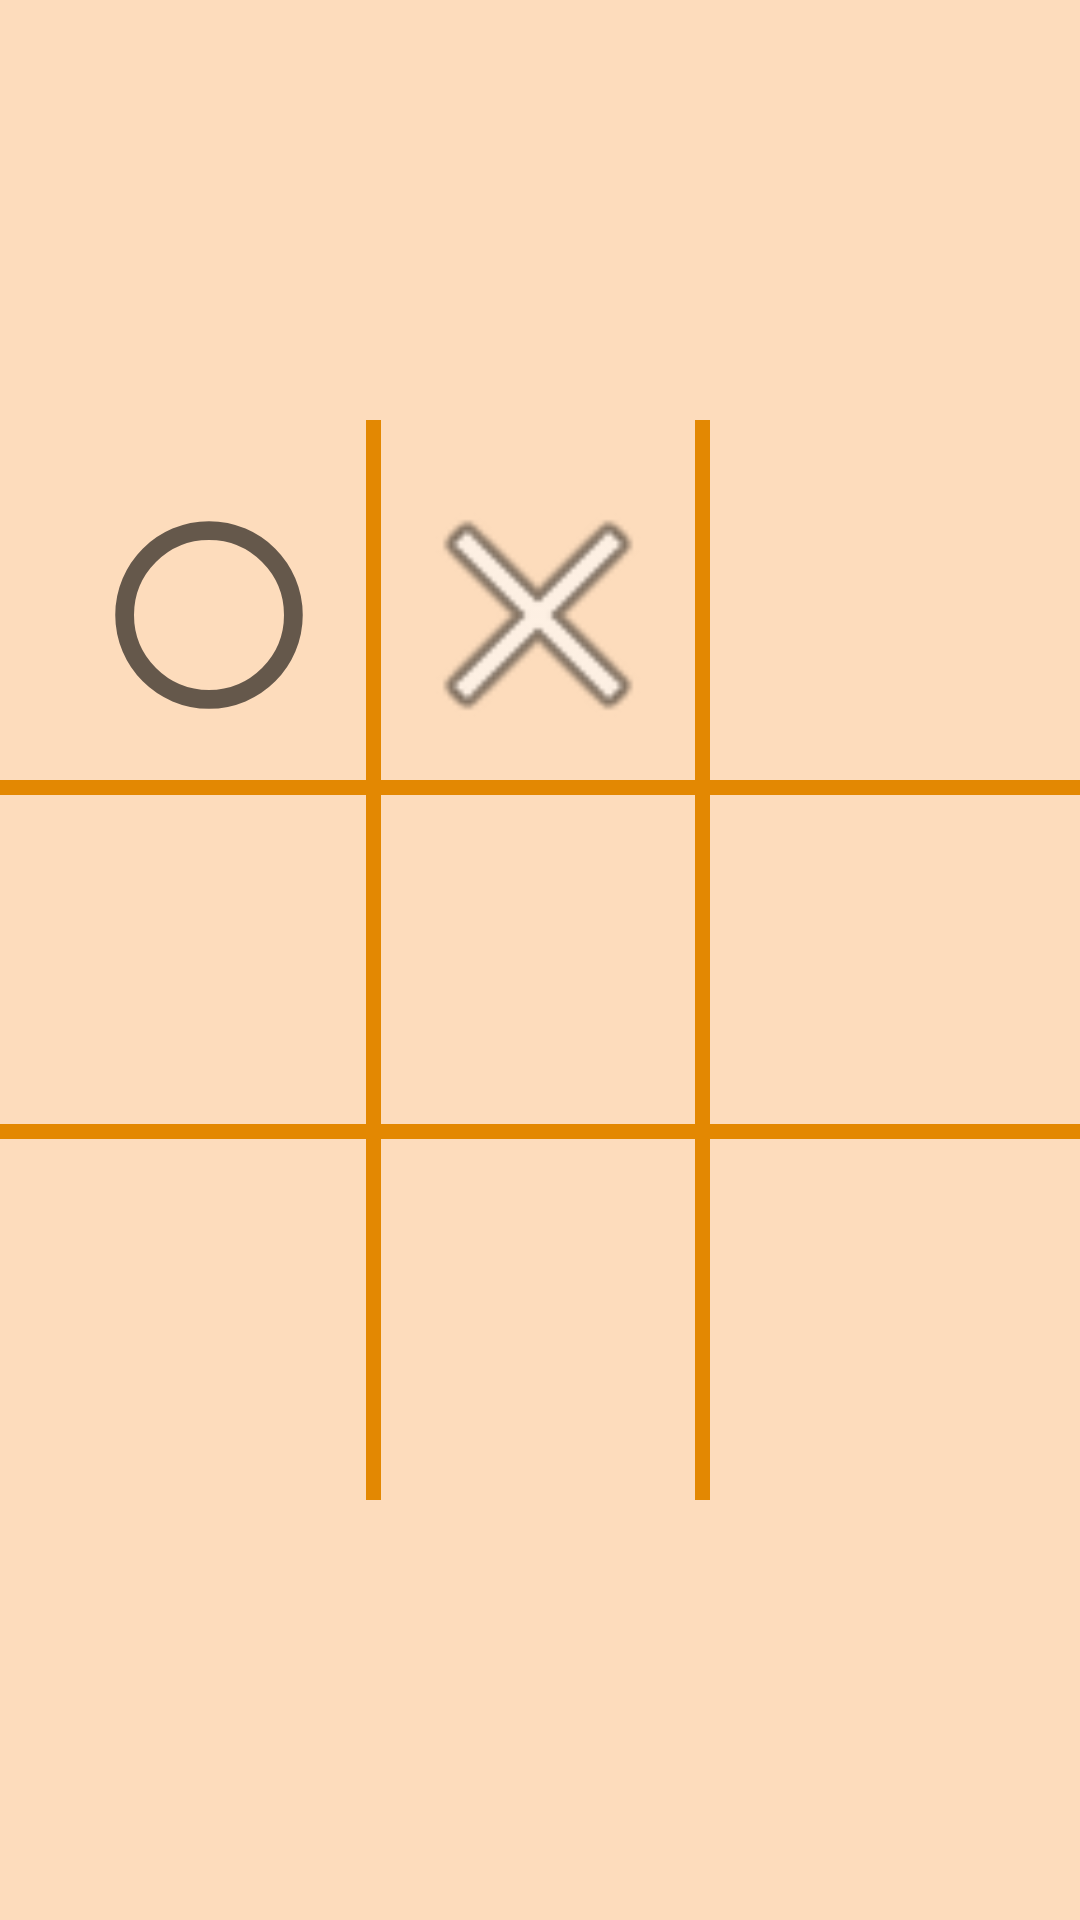

Icon bounding boxes for this 1080x1920 phone screenshot, format (x1, y1, x2, y2):
close clear cancel: (444, 521, 632, 709)
